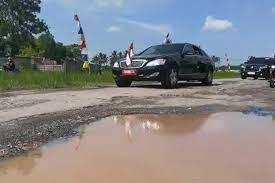Pothole: (0, 101, 275, 183)
